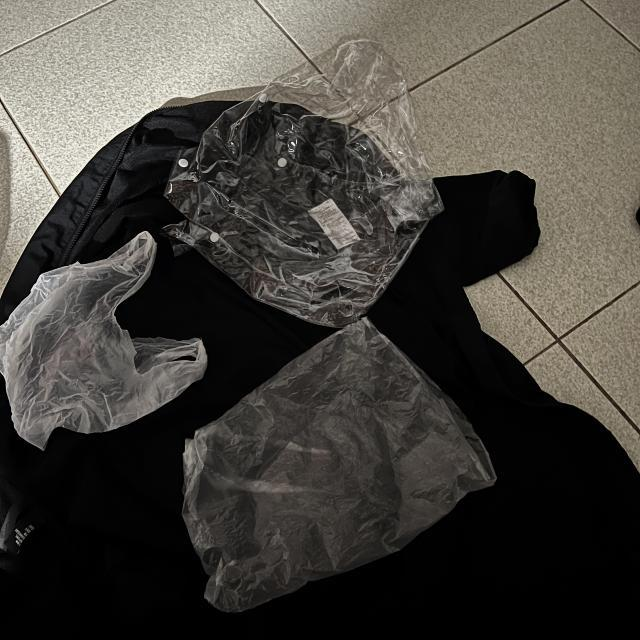Single-layer Plastic: (182, 319, 495, 611), (166, 40, 442, 327), (0, 231, 208, 449), (0, 0, 1, 1)
